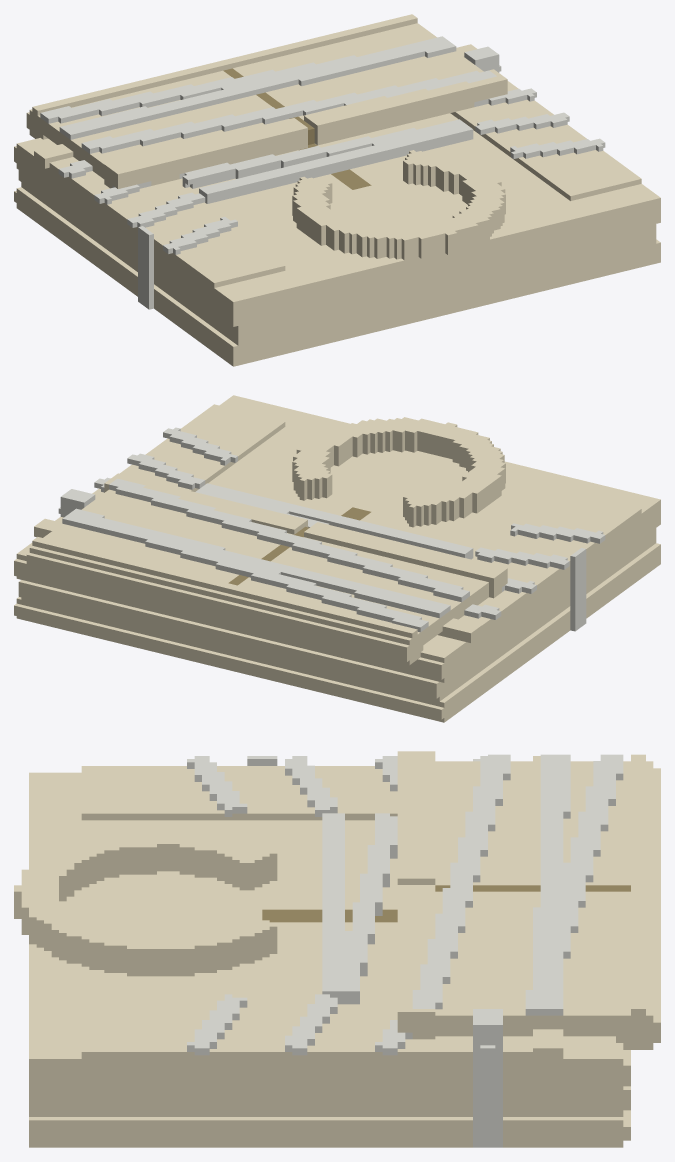
Rendered from mummy_jumpsuit.glb.
3 renders of one model, top to bottom at view 1: azimuth 30°, elevation 25°; view 2: azimuth 150°, elevation 25°; view 3: azimuth 270°, elevation 25°, orthographic. The views are drawn at different scales.
Parts seen in each view (by area): view 1: mummy_jumpsuit:compound; view 2: mummy_jumpsuit:compound; view 3: mummy_jumpsuit:compound.
Boxes of the visible parts, x1,y1,x2,y2 form: mummy_jumpsuit:compound: (14, 14, 660, 366); mummy_jumpsuit:compound: (14, 395, 660, 722); mummy_jumpsuit:compound: (14, 751, 660, 1147).
Bounding box in the file's own units: 0.368 × 0.072 × 0.344.
